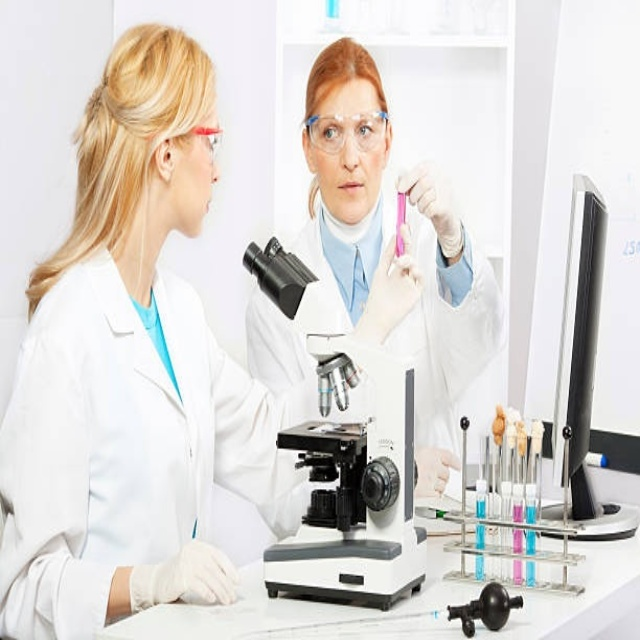Gafas: (305, 112, 389, 155), (176, 126, 223, 164)
Guantes: (132, 539, 242, 610), (396, 159, 465, 259), (411, 430, 460, 508)
Sin_mascara: (182, 177, 218, 235), (329, 171, 369, 209)
